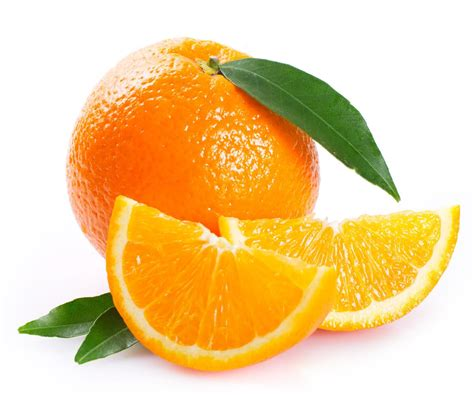orange: (60, 32, 331, 234)
